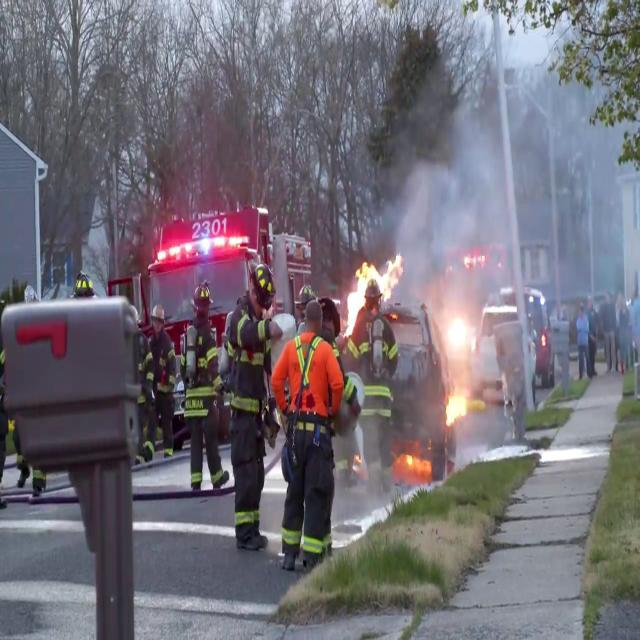Fire: (340, 240, 398, 334), (442, 319, 476, 429), (443, 376, 475, 428), (396, 441, 432, 480)
Smoke: (396, 23, 640, 372)
